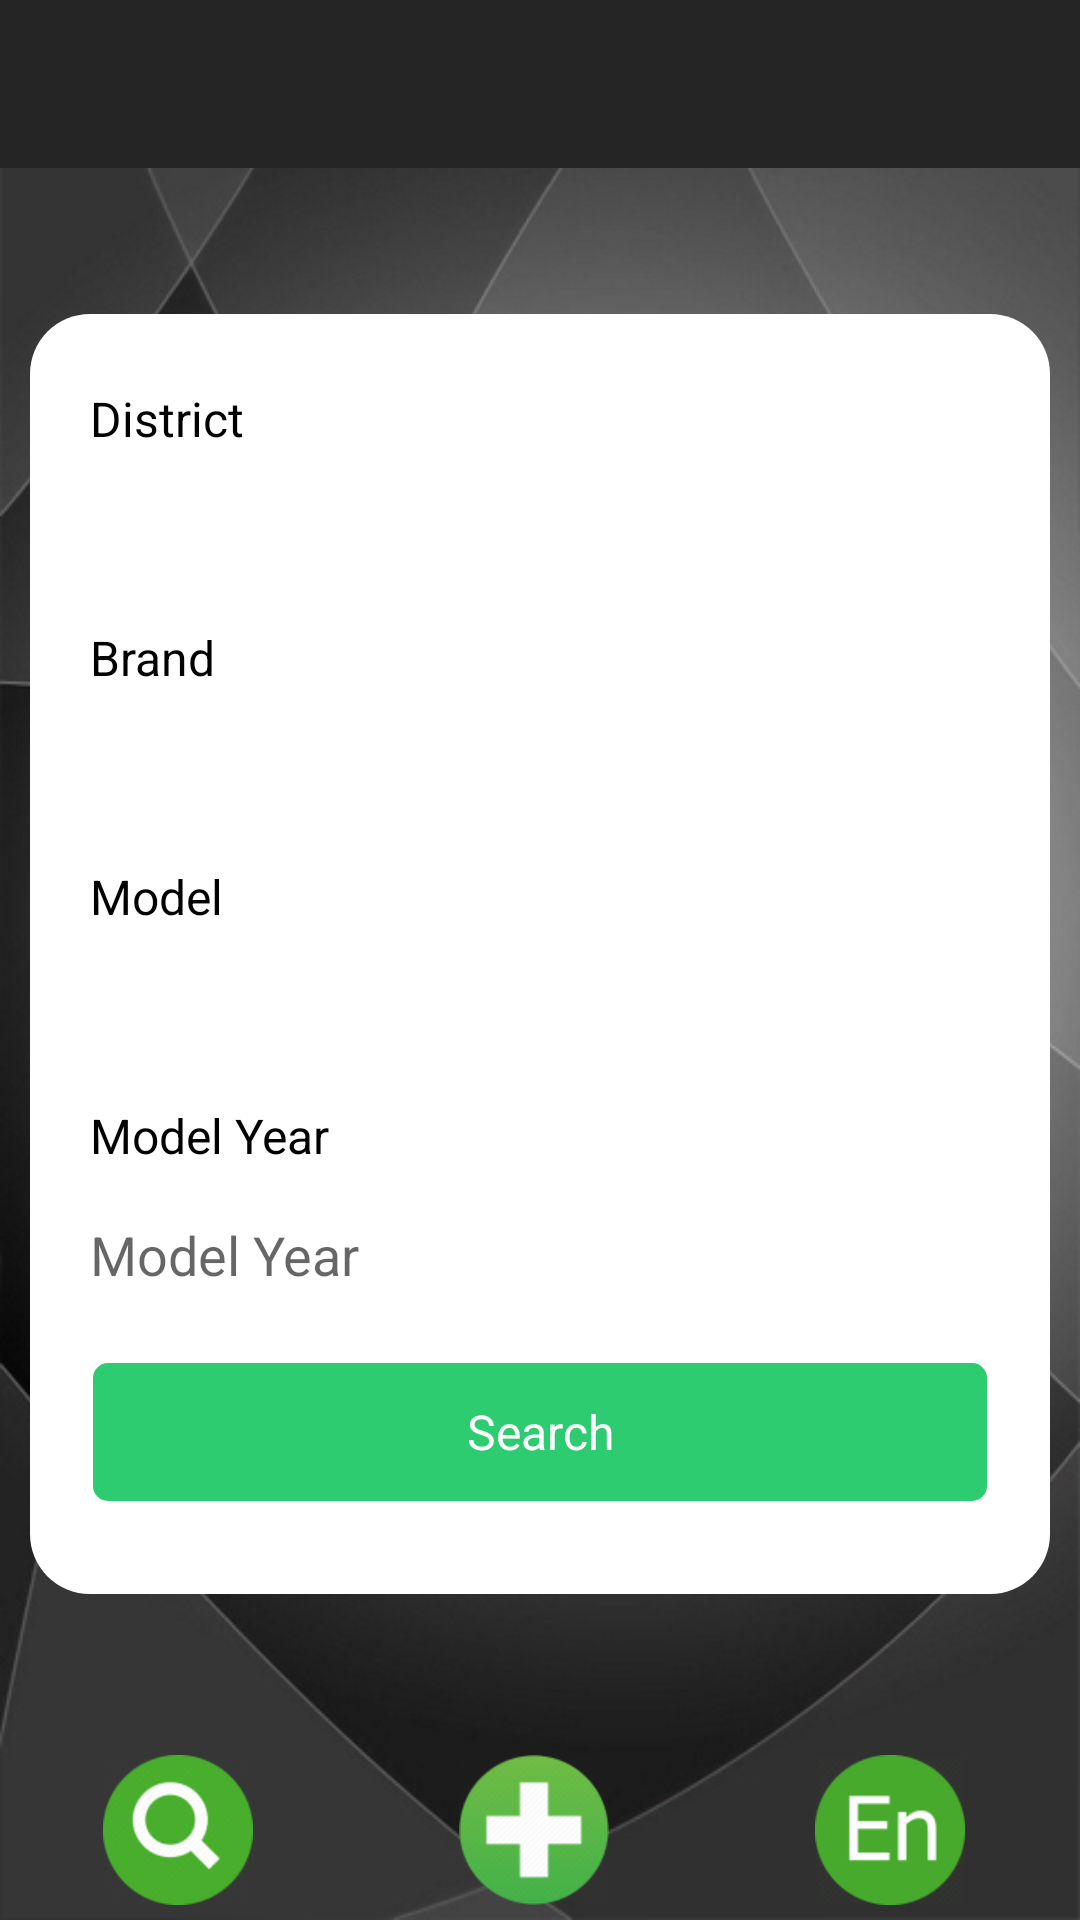

Icon bounding boxes for this 1080*1920 phone screenshot, format (x1, y1, x2, y2):
search: (103, 1755, 253, 1905)
